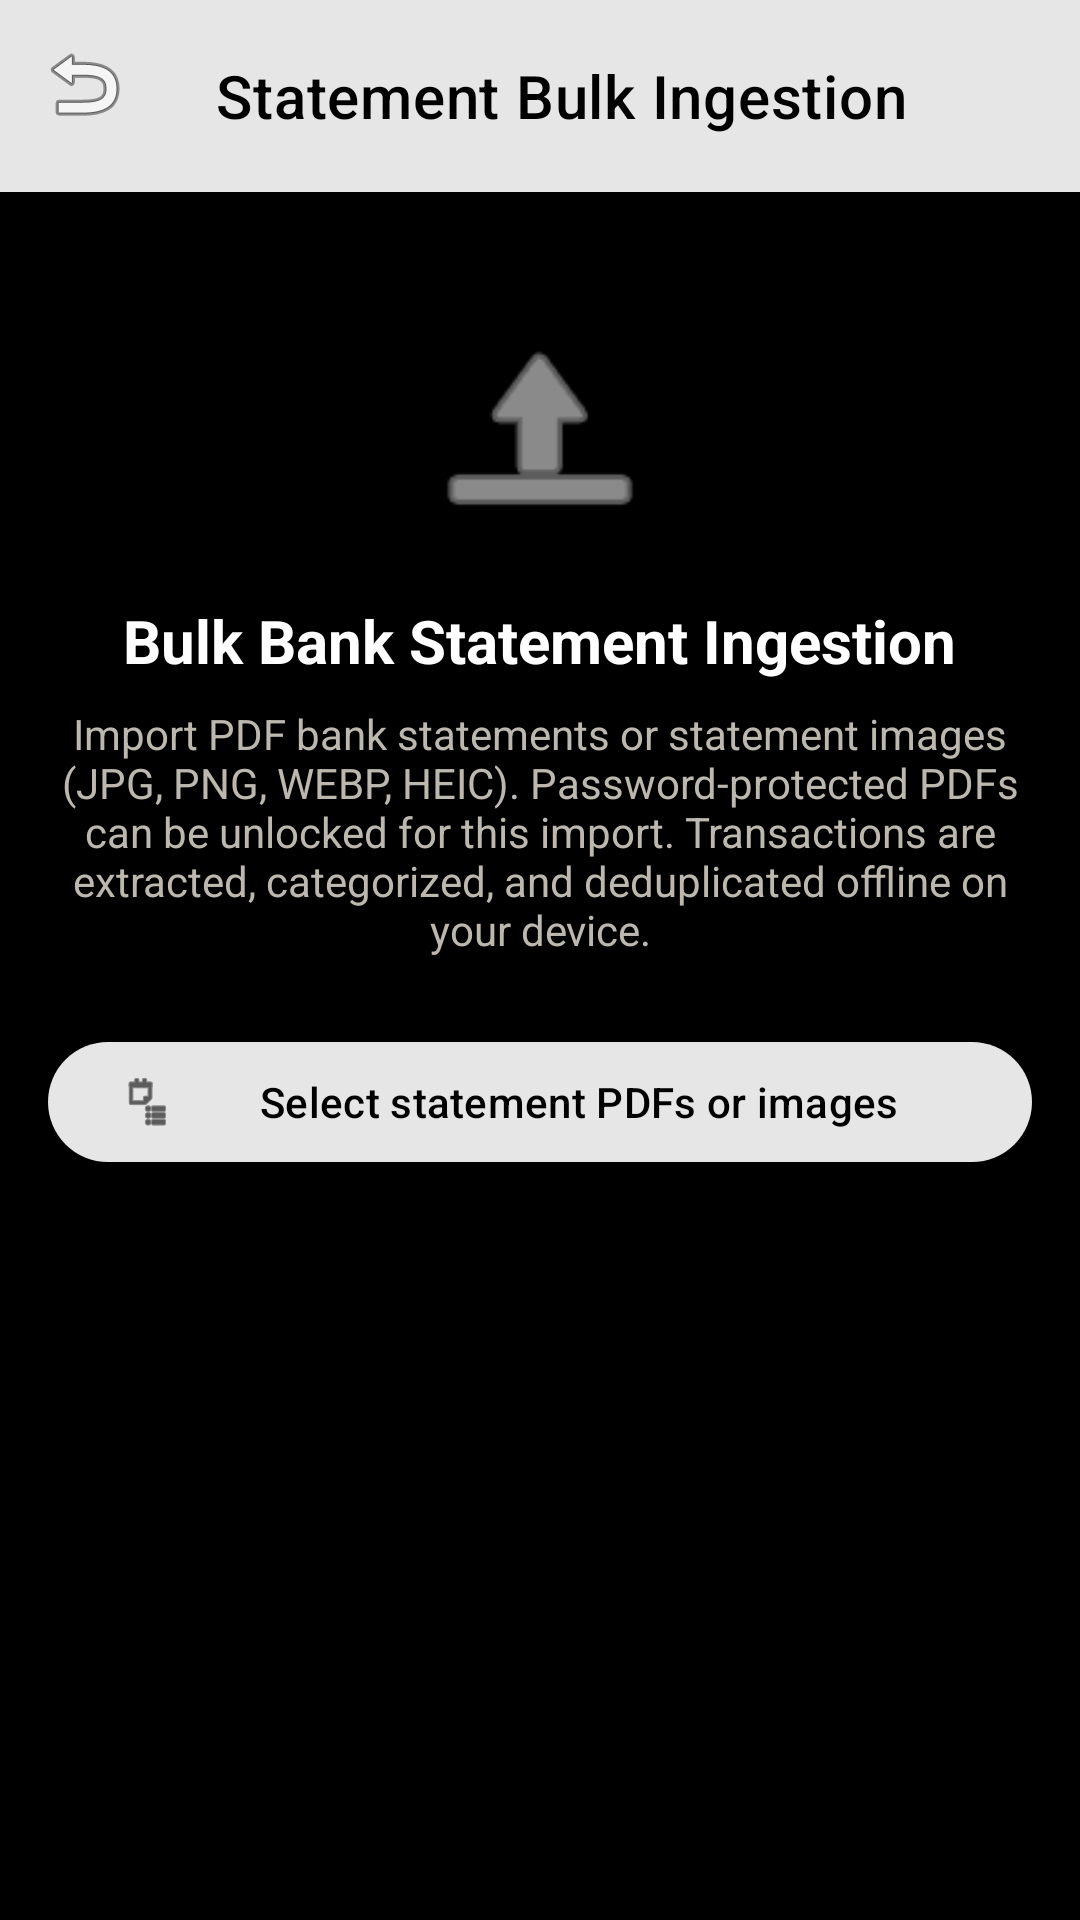

Icon bounding boxes for this 1080 × 1920 phone screenshot, format bbox(x1, y1, x2, y2):
upload: bbox(447, 352, 633, 505)
